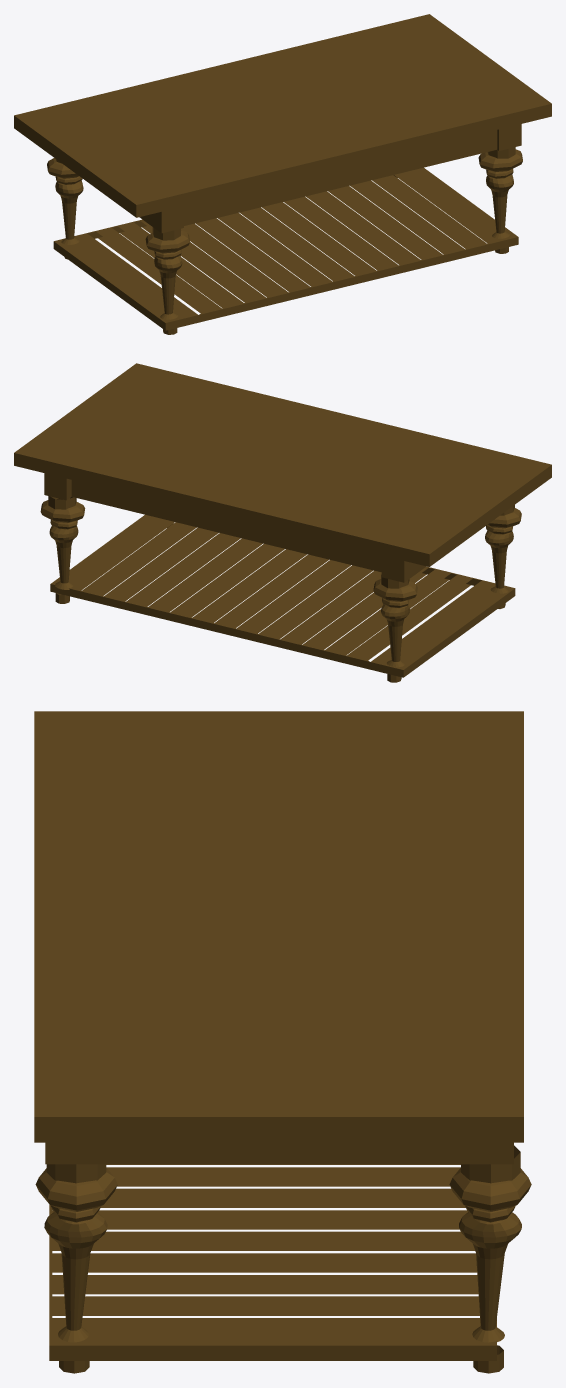
File: TableChan.fbx
3 views of the same model, one above another, from view 1: azimuth 30°, elevation 25°; view 2: azimuth 150°, elevation 25°; view 3: azimuth 270°, elevation 25° (orthographic). The views are drawn at different scales.
Parts seen in each view (by area): view 1: TischPlatte, UntereTischPlatte, TischStrebe, TischBeinEnde.001, TischBeinEnde.002, TischBeinEnde.003, TischStrebe.002, Sphere.008, Sphere.002, Tisch>Strebe; view 2: TischPlatte, UntereTischPlatte, TischStrebe.001, TischBeinEnde.004, TischBeinEnde.002, TischBeinEnde.001, TischStrebe.002, Sphere.006, Sphere, Tisch>Strebe, Sphere.002; view 3: TischPlatte, UntereTischPlatte, Tisch>Strebe, TischBeinEnde.004, TischBeinEnde.003, Sphere.006, Sphere.008, TischBeinObererTeil.004, TischBeinObererTeil.003.
Boxes of the visible parts, x1,y1,x2,y2 form: TischPlatte: (14, 14, 551, 217); UntereTischPlatte: (53, 167, 518, 330); TischStrebe: (184, 130, 497, 225); TischBeinEnde.001: (154, 255, 182, 319); TischBeinEnde.002: (55, 180, 83, 244); TischBeinEnde.003: (486, 174, 513, 238); TischStrebe.002: (139, 206, 183, 233); Sphere.008: (478, 149, 522, 171); Sphere.002: (145, 230, 189, 253); Tisch>Strebe: (497, 124, 521, 150); TischPlatte: (14, 363, 551, 566); UntereTischPlatte: (50, 514, 515, 677); TischStrebe.001: (71, 480, 381, 572); TischBeinEnde.004: (49, 525, 78, 589); TischBeinEnde.002: (381, 604, 409, 667); TischBeinEnde.001: (485, 530, 513, 593); TischStrebe.002: (382, 555, 426, 582); Sphere.006: (40, 498, 85, 522); Sphere: (373, 579, 417, 601); Tisch>Strebe: (44, 473, 71, 500); Sphere.002: (487, 508, 521, 528); TischPlatte: (34, 711, 523, 1142); UntereTischPlatte: (49, 1164, 496, 1360); Tisch>Strebe: (45, 1142, 513, 1164); TischBeinEnde.004: (459, 1212, 521, 1342); TischBeinEnde.003: (44, 1212, 107, 1342); Sphere.006: (449, 1167, 531, 1211); Sphere.008: (35, 1168, 117, 1211); TischBeinObererTeil.004: (461, 1145, 520, 1183); TischBeinObererTeil.003: (46, 1164, 106, 1183).
Bounding box in the file's own units: 973 × 324 × 504.
